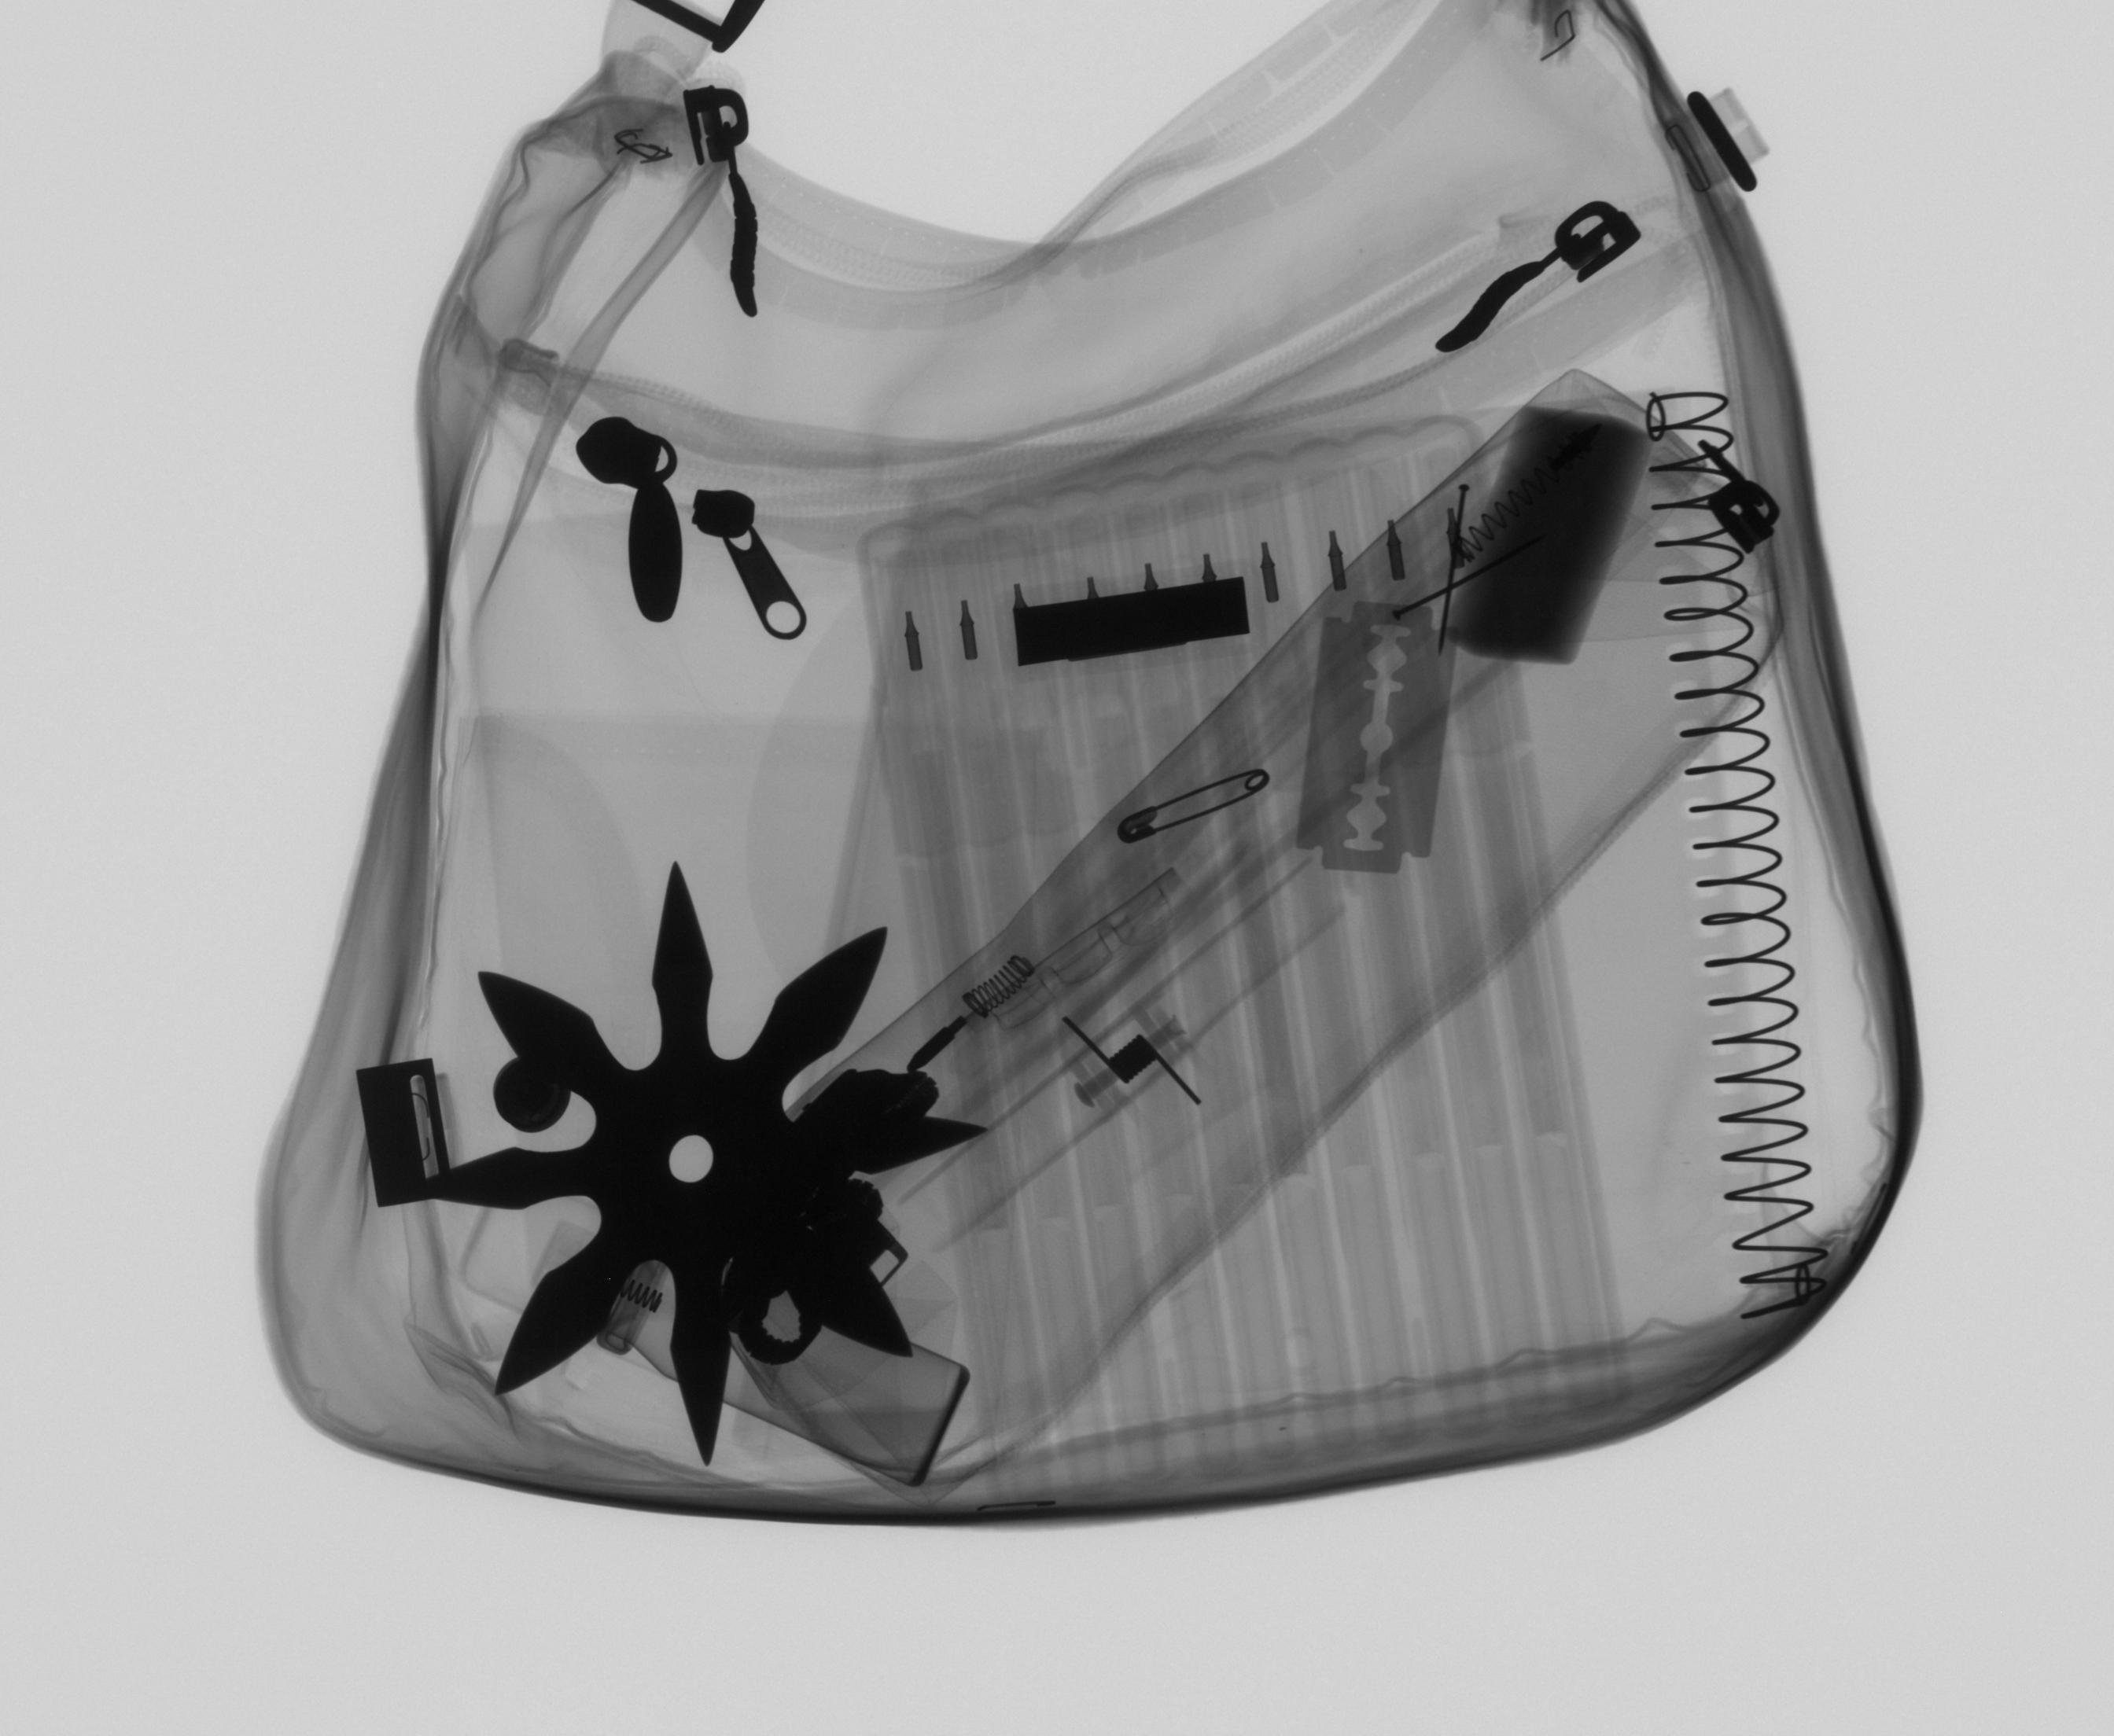RazorBlade: (1287, 595, 1463, 885)
Shuriken: (404, 855, 997, 1478)
